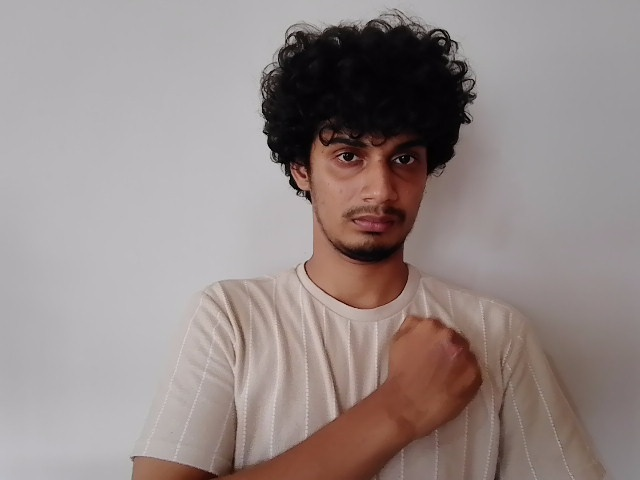sorry: (354, 266, 551, 457)
